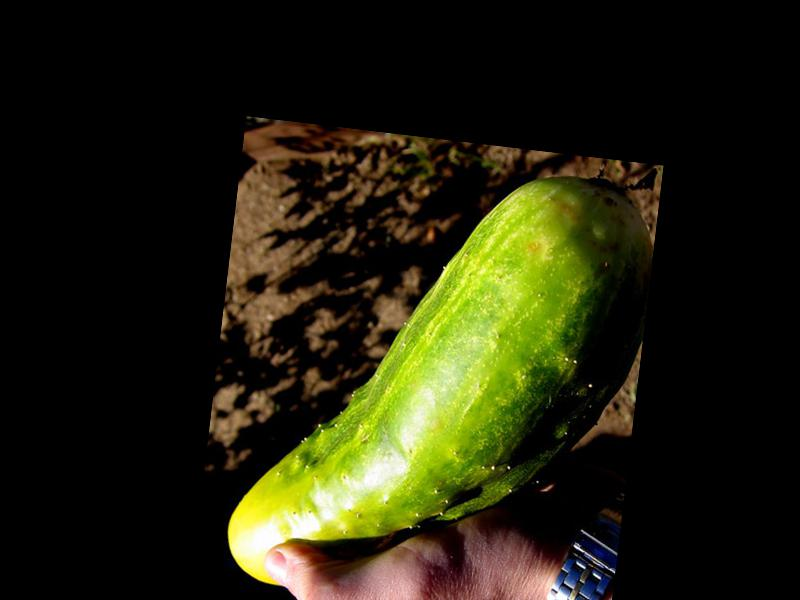Cucumber: (222, 139, 661, 600)
